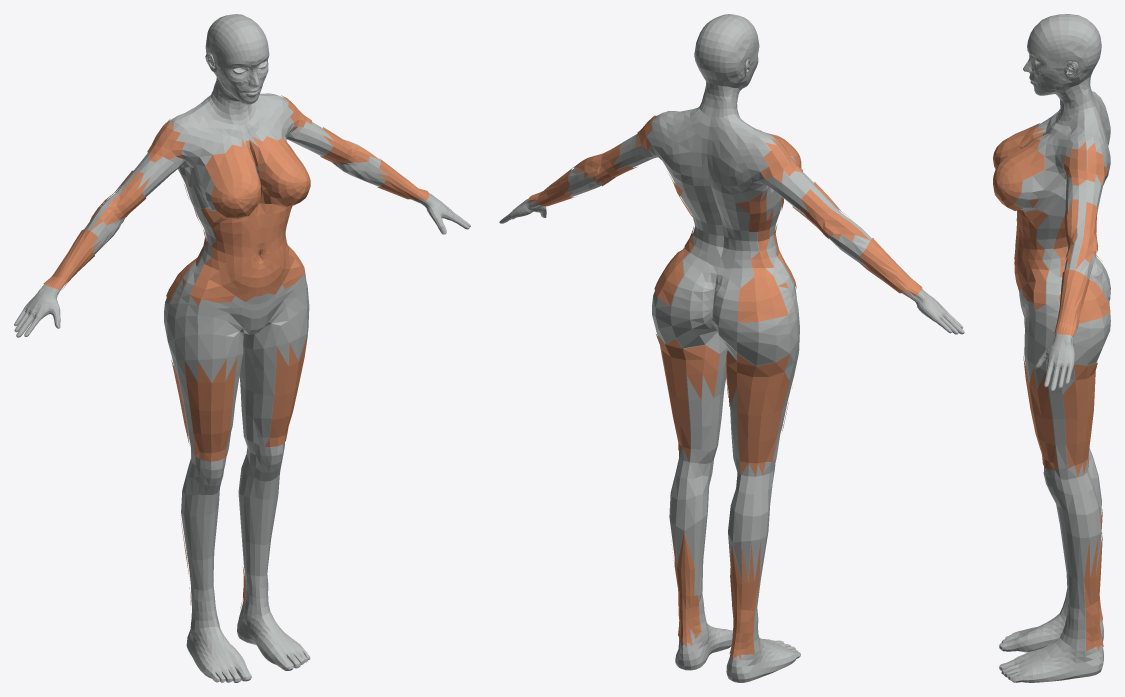
Rendered from female-segmented.glb.
The picture shows the model from 3 angles, left to right: view 1: azimuth 30°, elevation 25°; view 2: azimuth 150°, elevation 25°; view 3: azimuth 270°, elevation 25°; orthographic projection.
Parts seen in each view (by area): view 1: body_surface, muscle__chest, muscle__quads, muscle__abs, muscle__forearms, muscle__biceps, muscle__shoulders; view 2: body_surface, muscle__hamstrings, muscle__lats, muscle__calves, muscle__glutes, muscle__forearms, muscle__triceps, muscle__shoulders; view 3: body_surface, muscle__chest, muscle__hamstrings, muscle__abs, muscle__quads, muscle__calves, muscle__forearms, muscle__lats, muscle__shoulders, muscle__triceps, muscle__glutes, muscle__biceps.
Part boxes in pixels (x1,y1,x2,y2): body_surface: [14, 14, 470, 682]; muscle__chest: [201, 136, 310, 265]; muscle__quads: [184, 335, 307, 461]; muscle__abs: [190, 218, 305, 305]; muscle__forearms: [43, 158, 429, 290]; muscle__biceps: [91, 127, 379, 230]; muscle__shoulders: [147, 95, 312, 162]; body_surface: [499, 14, 964, 682]; muscle__hamstrings: [661, 348, 789, 476]; muscle__lats: [594, 159, 827, 322]; muscle__calves: [671, 526, 760, 659]; muscle__glutes: [656, 334, 789, 415]; muscle__forearms: [529, 168, 922, 297]; muscle__triceps: [573, 143, 870, 241]; muscle__shoulders: [635, 115, 802, 182]; body_surface: [999, 14, 1110, 682]; muscle__chest: [993, 123, 1047, 257]; muscle__hamstrings: [1062, 371, 1095, 477]; muscle__abs: [1014, 219, 1048, 310]; muscle__quads: [1023, 356, 1057, 469]; muscle__calves: [1084, 509, 1103, 650]; muscle__forearms: [1054, 269, 1089, 337]; muscle__lats: [1029, 199, 1110, 323]; muscle__shoulders: [1064, 142, 1107, 185]; muscle__triceps: [1075, 202, 1098, 269]; muscle__glutes: [1063, 362, 1097, 419]; muscle__biceps: [1064, 199, 1078, 268].
Bounding box in the file's own units: 1.49 × 1.99 × 0.3302.
